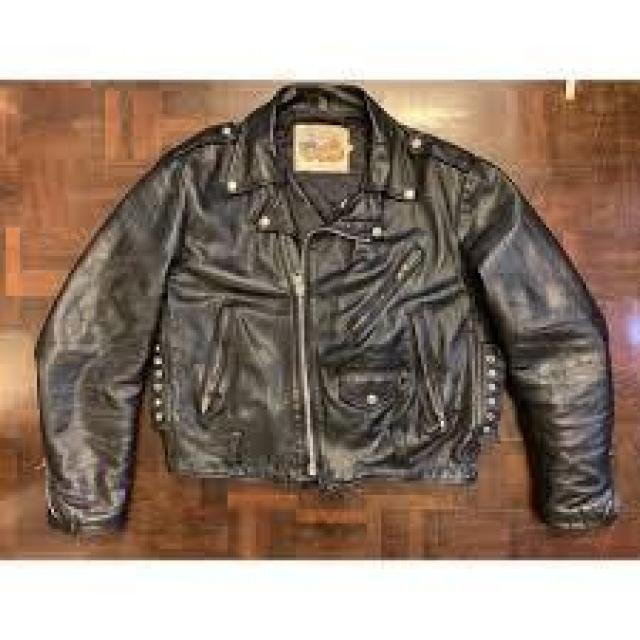jacket: (36, 87, 613, 539)
